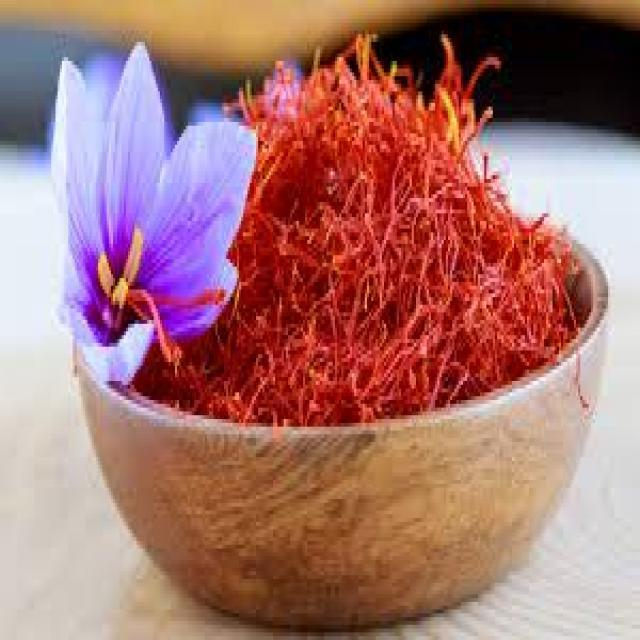Flower: (38, 25, 259, 388)
stigma: (147, 280, 226, 312), (143, 290, 176, 360)
